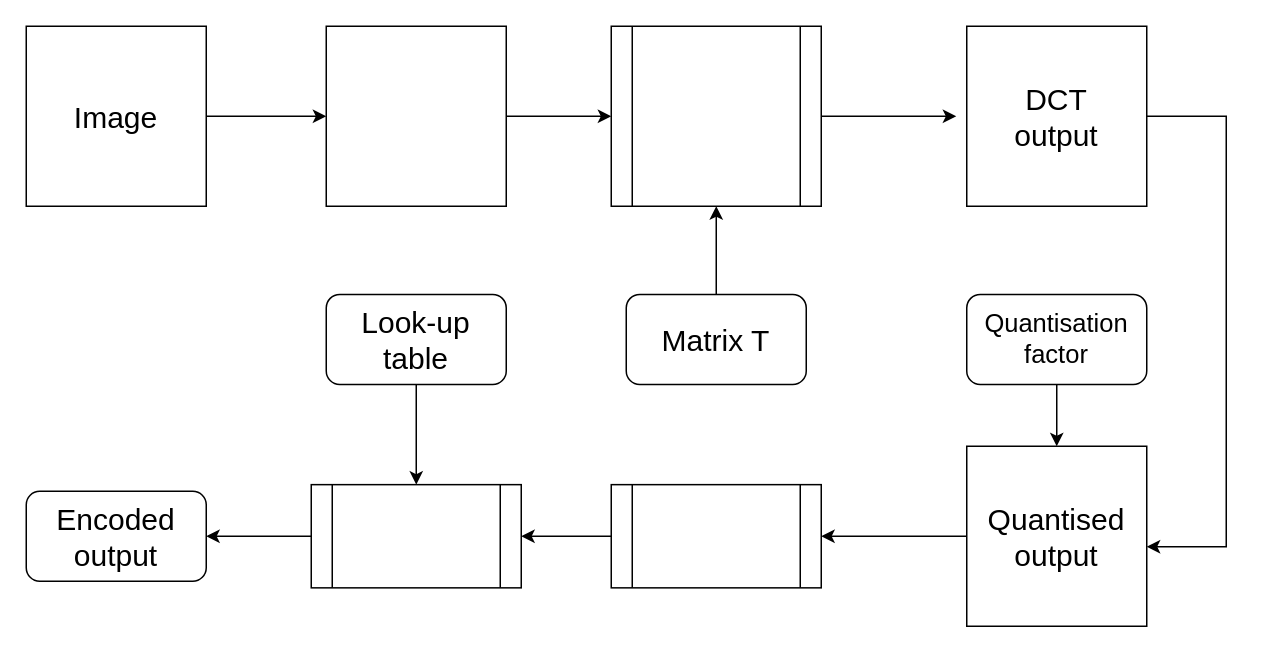
Image size: 1265x653. Some labels were removed from this diagram. The centre of each missing label's shape, as x and y in pixels:
"8x8 pixel block (M)" goes at (x=415, y=115).
"Huffman encoding" goes at (x=415, y=535).
"Matrix multiplication (T*M*T T )" goes at (x=715, y=115).
"Run-length encoding" goes at (x=715, y=535).
